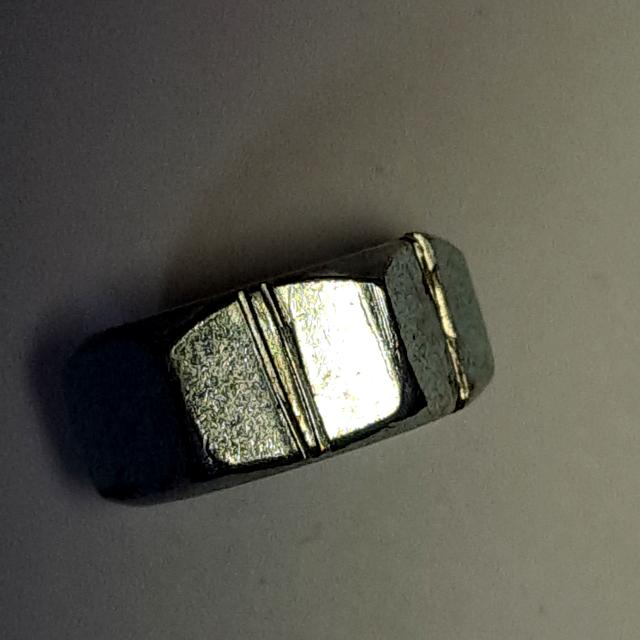Side_Scratches: (49, 211, 511, 519)
